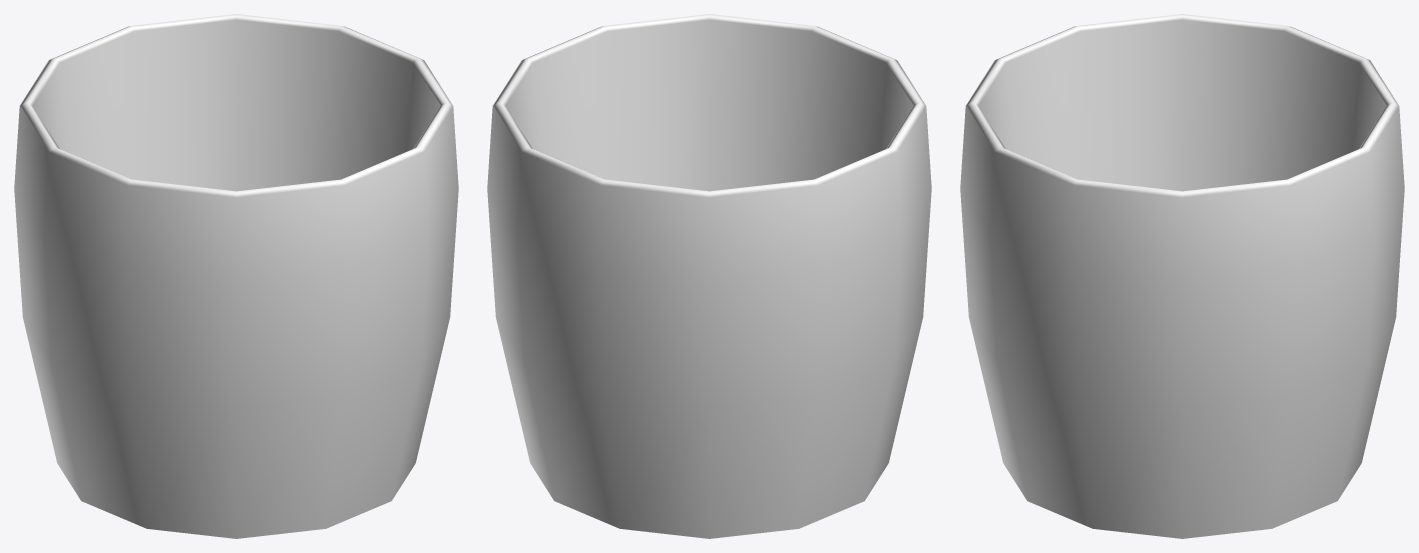
The model's file is cup2.glb.
The picture shows the model from 3 angles, left to right: view 1: azimuth 30°, elevation 25°; view 2: azimuth 150°, elevation 25°; view 3: azimuth 270°, elevation 25°; orthographic projection.
Parts seen in each view (by area): view 1: Pot_Medium1_lambert3_0; view 2: Pot_Medium1_lambert3_0; view 3: Pot_Medium1_lambert3_0.
Boxes of the visible parts, x1=… form: Pot_Medium1_lambert3_0: x1=14, y1=14, x2=458, y2=538; Pot_Medium1_lambert3_0: x1=487, y1=14, x2=931, y2=538; Pot_Medium1_lambert3_0: x1=960, y1=14, x2=1404, y2=538.
Bounding box in the file's own units: 0.2707 × 0.2423 × 0.2707.
1 material, 1 textured.
